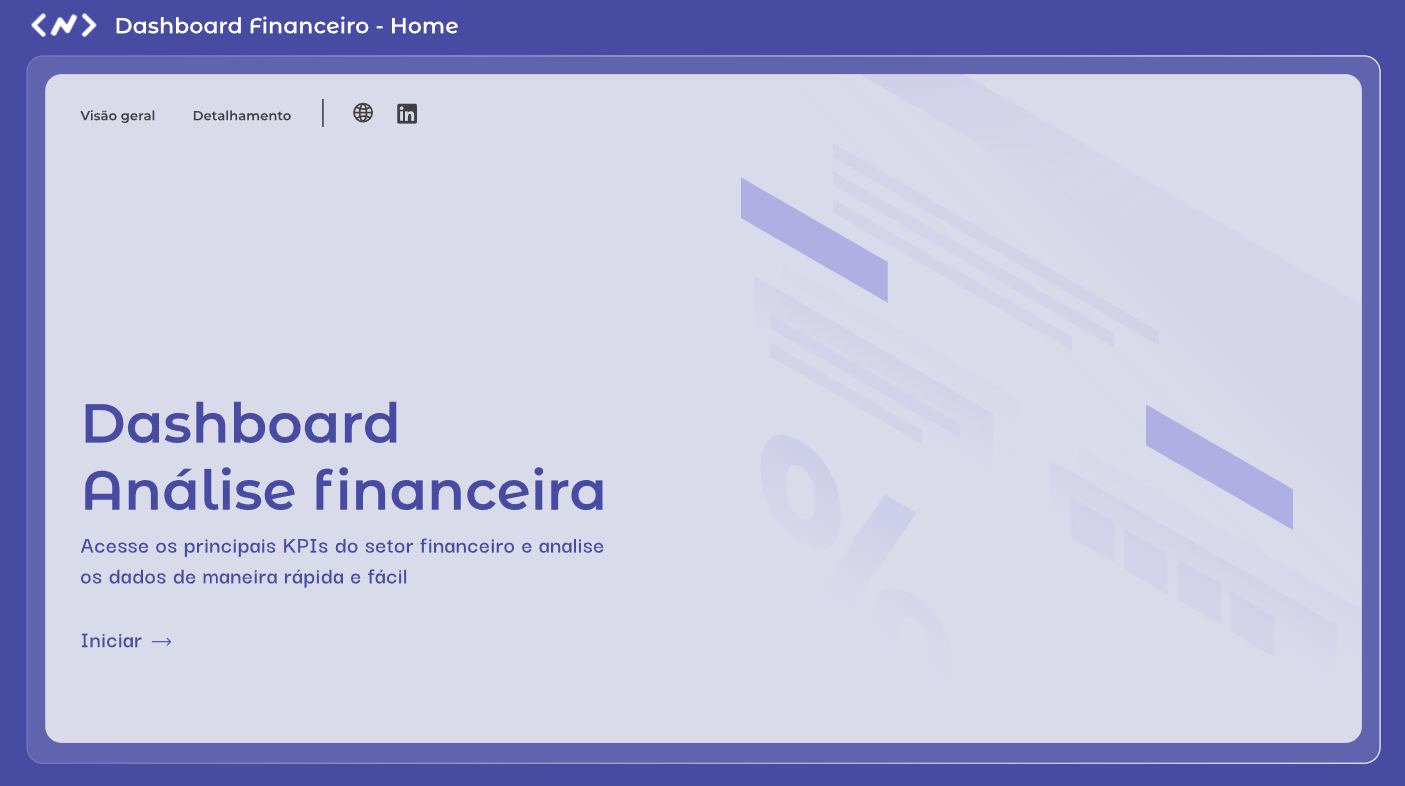

The dashboard page shown, as its layout file describes it:
{"tool":"powerbi","page":{"name":"Home","canvas":[1280,720],"ordinal":0},"visuals":[{"type":"actionButton","box":[58.8,86.9,100.1,40.4],"z":0},{"type":"actionButton","box":[171.2,86.9,100.1,40.4],"z":1000},{"type":"actionButton","box":[353,86.9,36,40.4],"z":2000},{"type":"actionButton","box":[65.5,564.5,105.5,40],"z":2001}]}

Visuals, with their boxes on the page's 1280x720 design canvas (x1, y1, x2, y2). These are canvas units, not pixel positions in the 1405x786 screenshot, which may show the page scaled, cropped or inside an application window:
actionButton: [x1=59, y1=87, x2=159, y2=127]
actionButton: [x1=171, y1=87, x2=271, y2=127]
actionButton: [x1=353, y1=87, x2=389, y2=127]
actionButton: [x1=66, y1=564, x2=171, y2=604]
